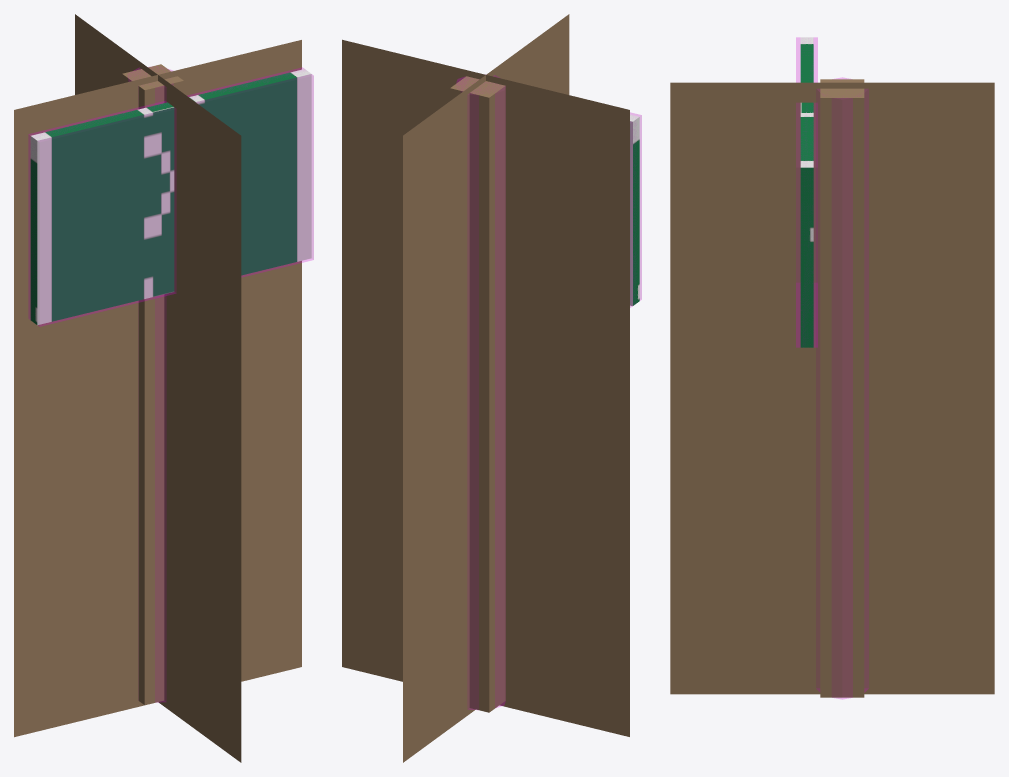
Rendered from exit.dae.
3 views of the same model, side by side, from view 1: azimuth 30°, elevation 25°; view 2: azimuth 150°, elevation 25°; view 3: azimuth 270°, elevation 25° (orthographic). The views are drawn at different scales.
Parts seen in each view (by area): view 1: exit_a50, exit_a800, Colmesh_sign-1, exit_a200, Colmesh_post-1; view 2: exit_a50, exit_a800, Colmesh_post-1, exit_a200, Colmesh_sign-1; view 3: exit_a50, exit_a800, Colmesh_post-1, Colmesh_sign-1.
Boxes of the visible parts, x1,y1,x2,y2 form: exit_a50: (14,14,301,762); exit_a800: (30,64,311,704); Colmesh_sign-1: (28,67,313,326); exit_a200: (138,69,181,701); Colmesh_post-1: (128,68,172,702); exit_a50: (342,14,629,762); exit_a800: (450,76,639,712); Colmesh_post-1: (456,75,505,709); exit_a200: (464,77,505,707); Colmesh_sign-1: (630,112,641,307); exit_a50: (670,82,994,694); exit_a800: (800,37,864,697); Colmesh_post-1: (816,77,868,699); Colmesh_sign-1: (796,37,817,347).
Size of the model in its own units: 0.735 by 0.735 by 1.53.
Materials: 3 (1 with a texture image).
